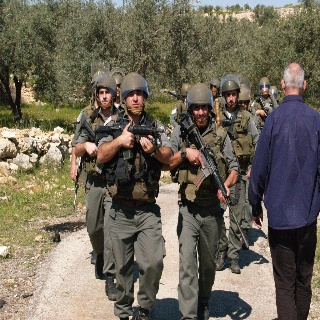rifle: (174, 110, 250, 251), (93, 118, 164, 162)
